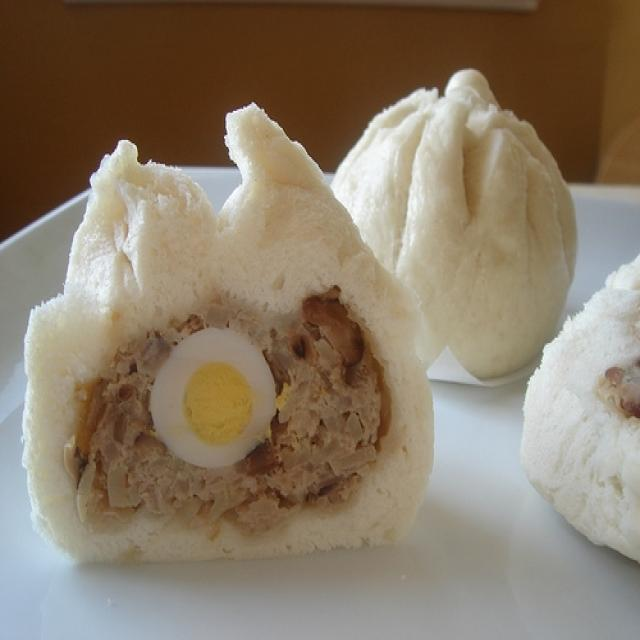带馅早点: (29, 45, 617, 602)
